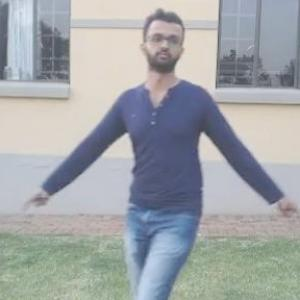land: (10, 6, 282, 299)
